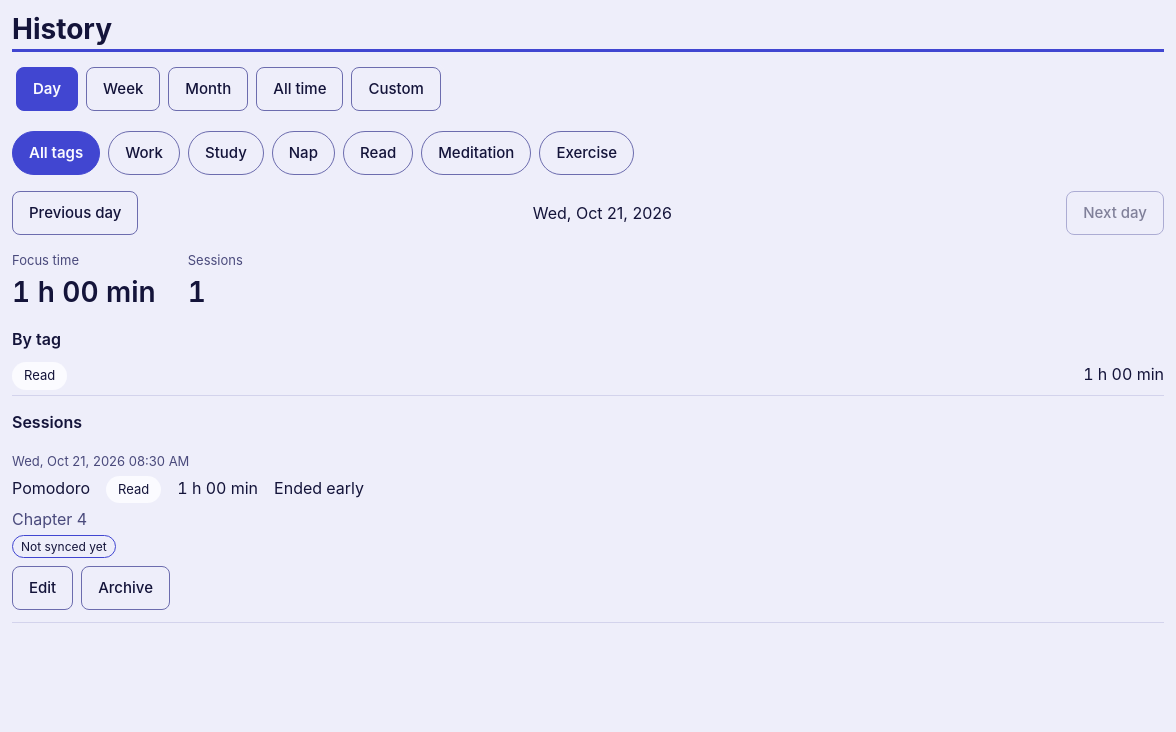
Test case: HistoryScreen › sessions on the device (AC10.9) › does not count a synced session with a pending edit as not saved
This screenshot has width=1176, height=732.
Expected: the text "Focus time" is shown, [12, 252, 79, 268]
Click the button "Read": (378, 153) [343, 131, 413, 175]
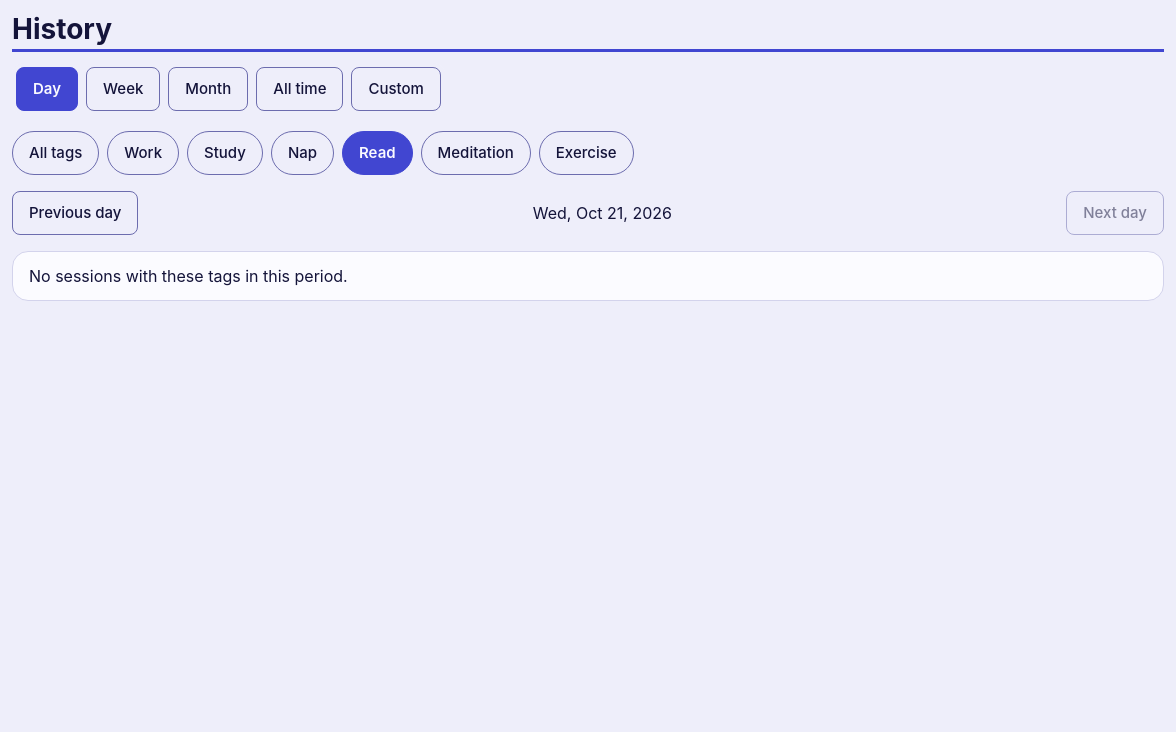
Expected: the text "No sessions with these tags in this period." is shown, [29, 264, 348, 288]
